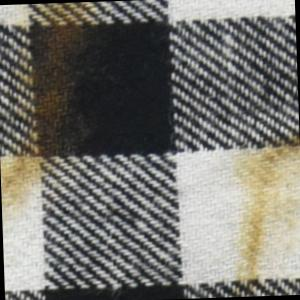Oil Stain: (1, 2, 118, 230), (228, 132, 300, 298)
